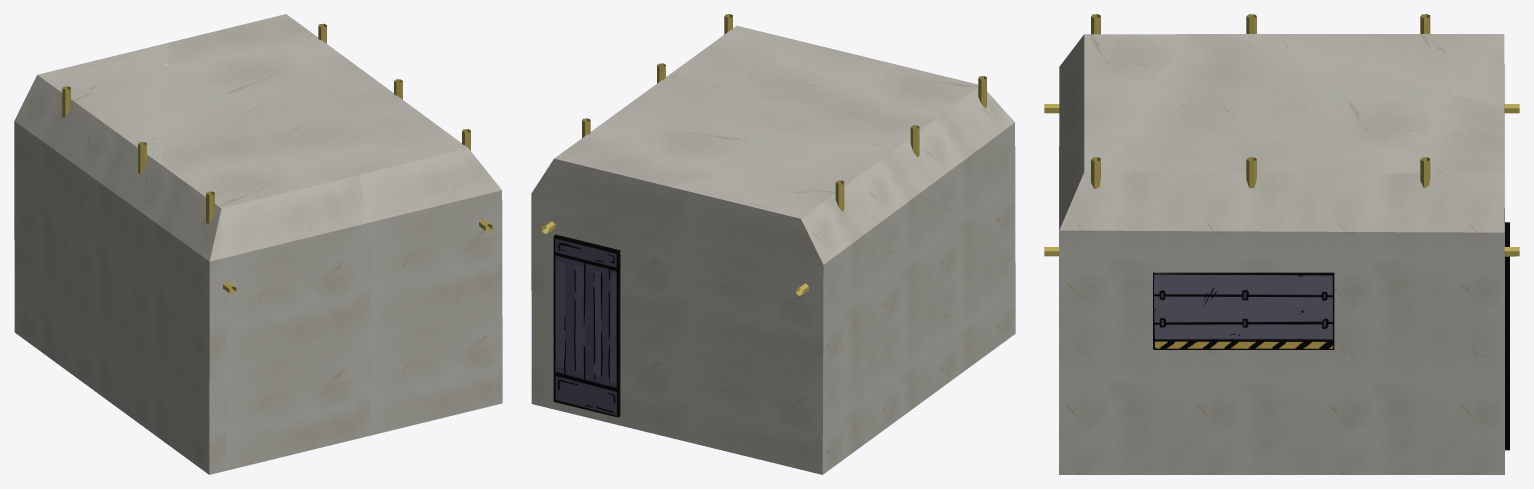
The model's file is trawjamMati.fbx.
3 views of the same model, side by side, from view 1: azimuth 30°, elevation 25°; view 2: azimuth 150°, elevation 25°; view 3: azimuth 270°, elevation 25° (orthographic). The views are drawn at different scales.
Visible parts, largest first — view 1: tramwaj, Cylinder.017; view 2: tramwaj, drzwi_tram, Cylinder.017; view 3: tramwaj, drzwi_okno, drzwi_tram, Cylinder.015, Cylinder.017.
Boxes of the visible parts, x1,y1,x2,y2 form: tramwaj: [14, 14, 502, 474]; Cylinder.017: [62, 86, 214, 223]; tramwaj: [531, 25, 1015, 474]; drzwi_tram: [553, 234, 620, 417]; Cylinder.017: [835, 76, 986, 211]; tramwaj: [1059, 34, 1504, 474]; drzwi_okno: [1153, 272, 1334, 349]; drzwi_tram: [1505, 222, 1509, 450]; Cylinder.015: [1091, 157, 1430, 189]; Cylinder.017: [1091, 14, 1430, 34].
Bounding box in the file's own units: 347 × 297 × 421.
